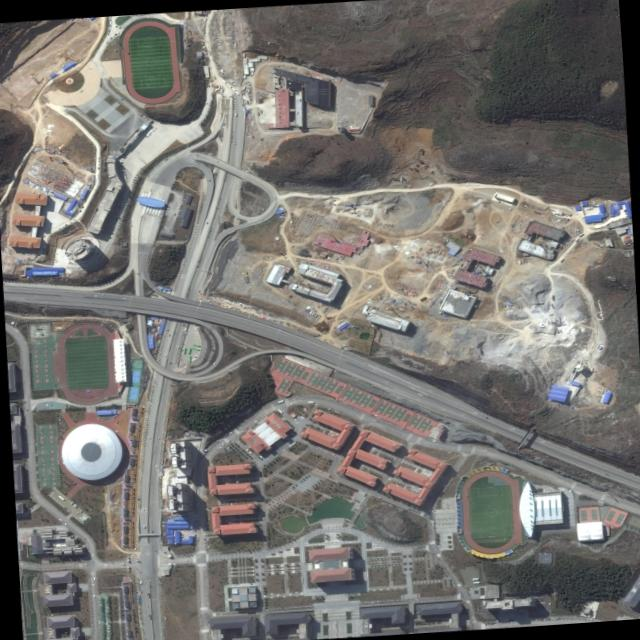large-vehicle: (191, 341, 199, 346), (190, 345, 198, 350), (81, 512, 87, 518), (79, 514, 86, 519), (56, 494, 63, 499), (77, 515, 83, 520), (186, 346, 190, 353), (276, 407, 281, 412), (276, 398, 282, 402), (181, 346, 185, 352), (146, 613, 149, 618), (471, 577, 478, 579), (138, 579, 141, 583), (306, 400, 312, 402), (472, 580, 478, 582), (187, 354, 189, 360)
small-vehicle: (141, 523, 145, 528), (281, 447, 285, 451), (211, 360, 215, 364), (206, 50, 210, 54), (411, 487, 414, 491), (301, 415, 304, 419), (294, 414, 298, 417), (278, 223, 282, 226), (217, 445, 221, 448), (286, 439, 290, 442), (227, 430, 231, 433), (234, 425, 238, 428), (292, 438, 296, 441), (552, 616, 556, 619), (71, 502, 75, 505), (68, 500, 72, 503), (57, 517, 61, 520), (63, 522, 67, 525), (66, 509, 70, 512), (79, 509, 83, 512), (112, 23, 115, 27), (60, 224, 64, 227), (66, 256, 70, 259), (100, 292, 104, 295), (44, 402, 47, 406), (62, 505, 66, 508), (258, 217, 262, 220), (121, 296, 125, 299), (157, 294, 161, 297), (123, 175, 127, 178), (119, 168, 123, 171), (148, 122, 152, 125), (106, 637, 111, 639), (326, 431, 329, 434), (304, 417, 307, 420), (414, 489, 417, 492), (258, 454, 261, 457), (218, 437, 221, 440), (253, 419, 256, 422), (239, 429, 242, 432), (202, 532, 205, 535), (379, 599, 382, 602), (74, 505, 77, 508), (91, 593, 94, 596), (76, 506, 79, 509), (63, 222, 66, 225), (64, 507, 67, 510), (110, 33, 113, 36), (139, 113, 142, 116), (176, 205, 179, 208), (173, 212, 176, 215), (141, 114, 144, 117), (121, 170, 124, 173), (137, 204, 140, 207), (145, 133, 148, 136), (386, 477, 390, 479), (288, 401, 292, 403), (482, 608, 486, 610), (509, 620, 513, 622), (534, 618, 538, 620), (542, 617, 546, 619), (193, 353, 197, 355), (72, 504, 76, 506), (96, 596, 100, 598), (97, 600, 101, 602), (98, 603, 102, 605), (105, 606, 109, 608), (106, 624, 110, 626), (106, 626, 110, 628), (106, 630, 110, 632), (65, 255, 69, 257), (52, 259, 56, 261), (75, 266, 79, 268), (146, 592, 148, 596), (214, 159, 218, 161), (233, 111, 235, 115), (186, 152, 190, 154), (194, 153, 198, 155), (150, 127, 154, 129), (161, 289, 165, 291), (121, 172, 125, 174), (119, 166, 123, 168), (118, 158, 122, 160), (146, 132, 150, 134), (193, 357, 196, 359), (299, 415, 301, 418), (292, 417, 295, 419), (285, 257, 287, 260), (476, 609, 479, 611), (377, 495, 380, 497), (370, 600, 373, 602), (178, 369, 180, 372), (176, 369, 178, 372), (375, 600, 378, 602), (202, 540, 204, 543), (202, 543, 204, 546), (206, 628, 208, 631), (513, 619, 516, 621), (538, 617, 541, 619), (549, 617, 552, 619), (560, 616, 563, 618), (547, 601, 549, 604), (190, 358, 193, 360), (92, 575, 94, 578), (91, 582, 93, 585), (105, 609, 108, 611), (145, 604, 147, 607), (75, 510, 77, 513), (72, 218, 75, 220), (57, 226, 60, 228), (54, 251, 57, 253), (93, 294, 96, 296), (154, 464, 156, 467), (106, 31, 108, 34), (224, 111, 226, 114), (205, 220, 207, 223), (157, 435, 159, 438), (165, 206, 168, 208), (95, 172, 97, 175), (96, 161, 98, 164), (96, 155, 98, 158), (122, 173, 125, 175), (123, 174, 126, 176), (120, 167, 123, 169), (119, 159, 122, 161), (476, 608, 480, 609), (64, 254, 68, 255), (45, 236, 47, 238), (108, 23, 110, 25), (107, 26, 109, 28), (207, 178, 209, 180), (193, 327, 197, 328), (193, 328, 197, 329), (96, 159, 98, 161), (294, 421, 297, 422), (476, 607, 479, 608), (203, 536, 204, 539), (556, 617, 559, 618), (112, 150, 115, 151), (96, 175, 97, 178), (196, 534, 197, 536), (196, 537, 197, 539), (200, 639, 202, 640), (233, 141, 234, 143)
storage-tank: (58, 419, 126, 482)
